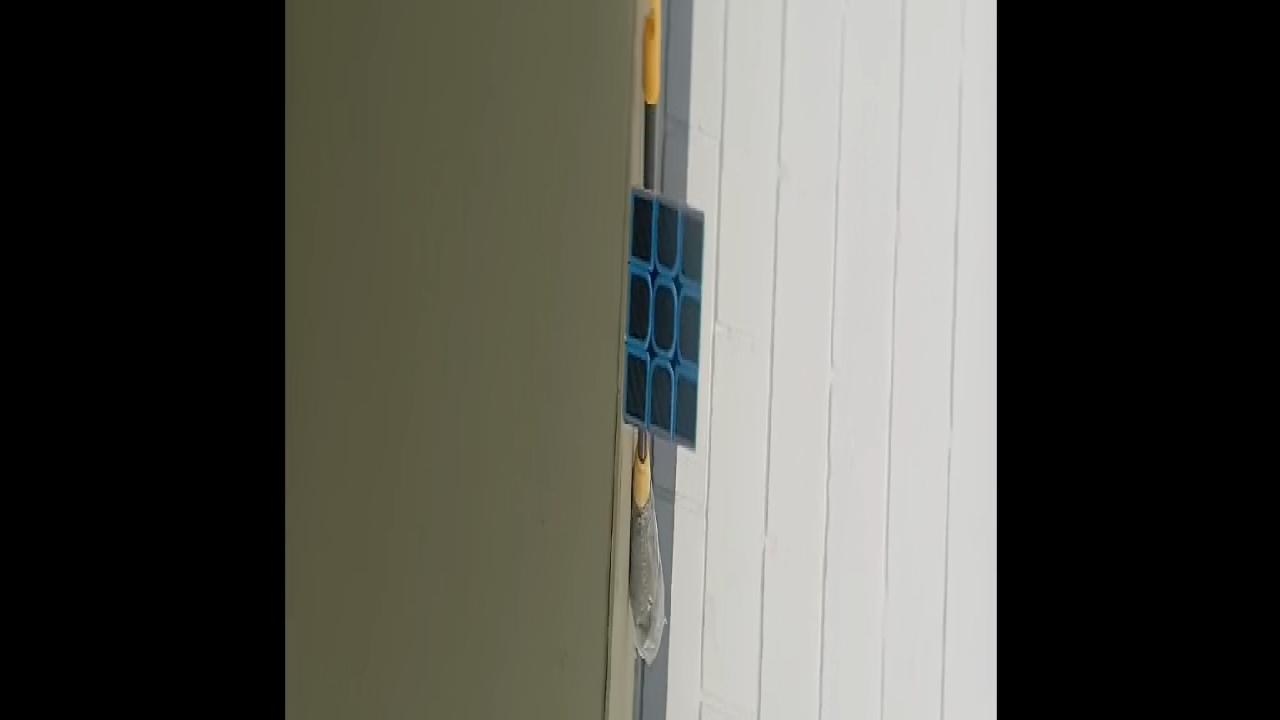Cube: (621, 181, 706, 451)
